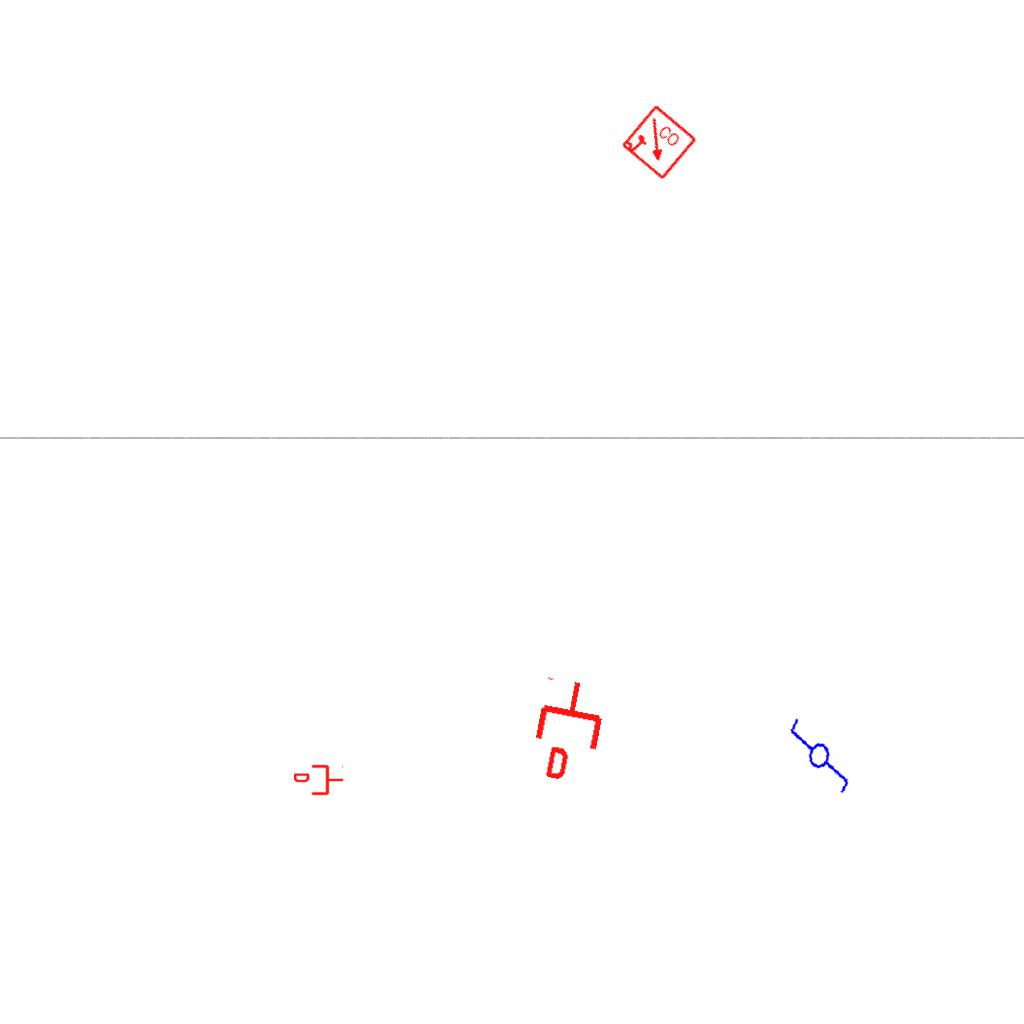Datenanschluss_einfach: (525, 674, 612, 786), (294, 763, 344, 797)
ROA_Rauchmelder_optisch_mit_Signalgeber_(Sockelsirene): (619, 103, 699, 183)
Wechselschalter: (778, 707, 864, 797)
